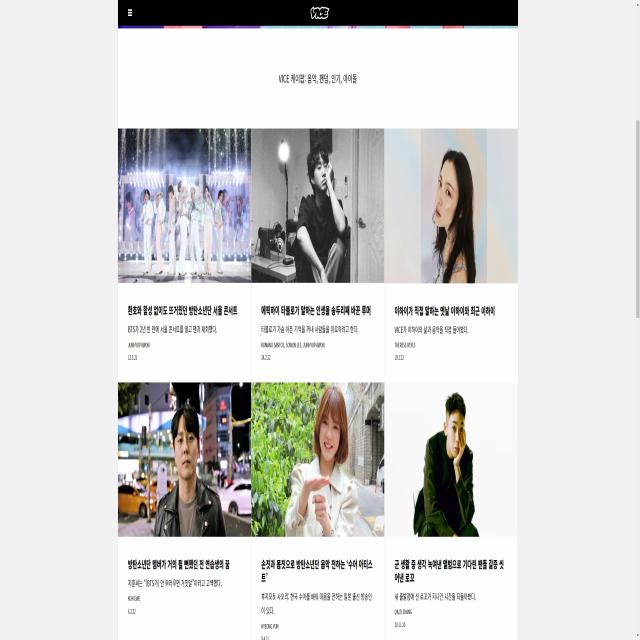tab-bar: (125, 1, 135, 20)
